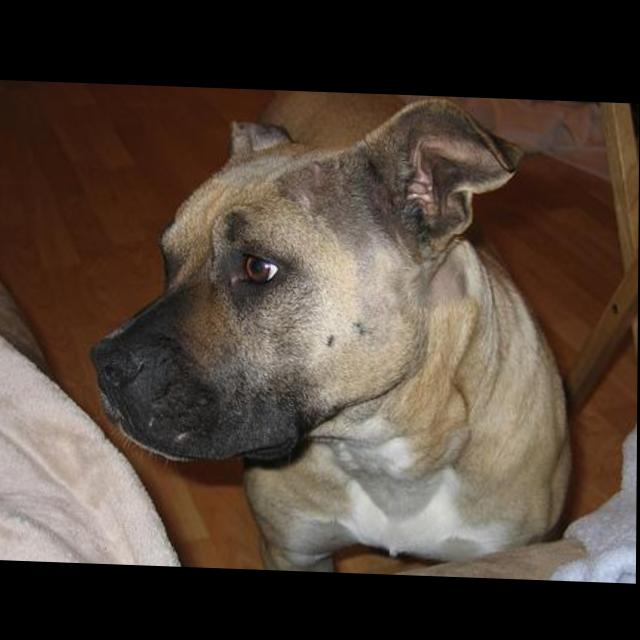amstaff: (88, 84, 577, 578)
